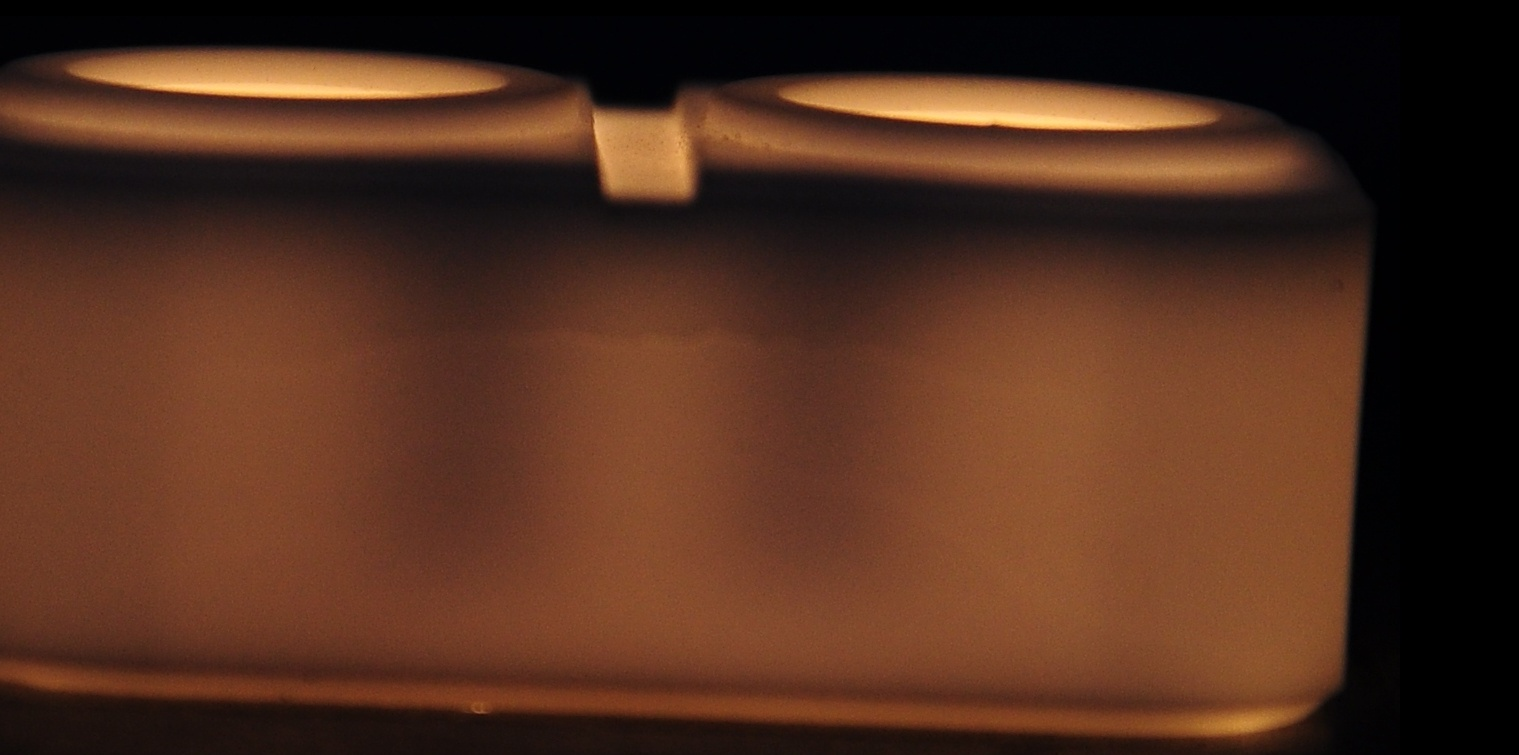flaw: (295, 308, 1015, 408)
